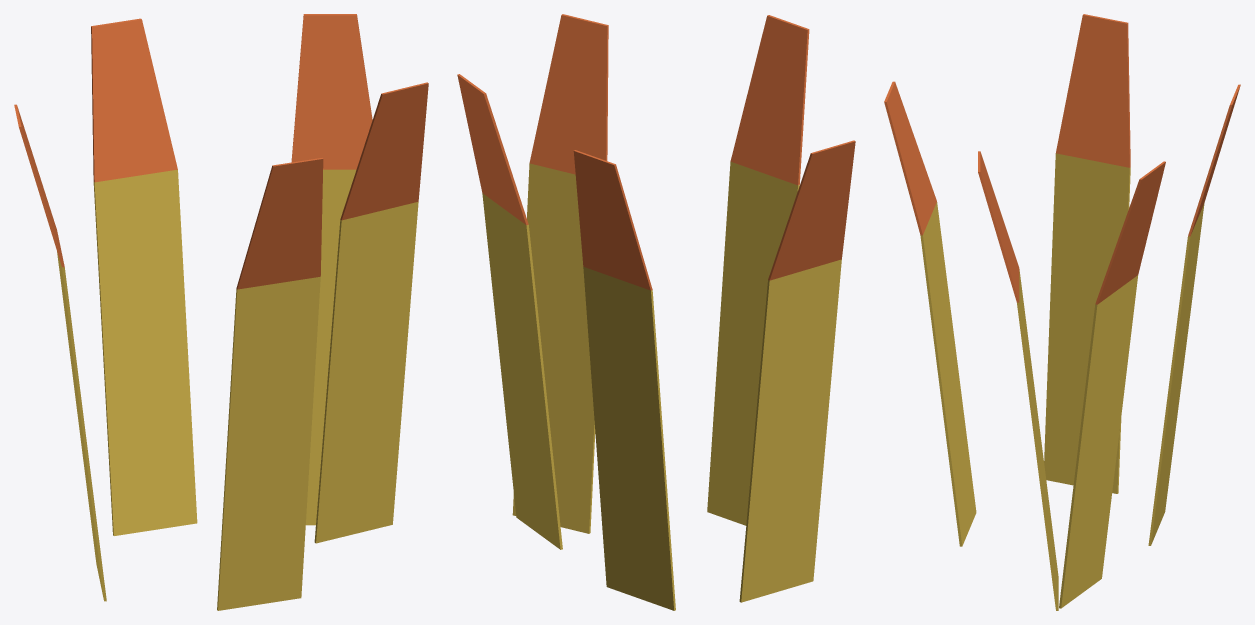
The model's file is Grass.fbx.
3 views of the same model, side by side, from view 1: azimuth 30°, elevation 25°; view 2: azimuth 150°, elevation 25°; view 3: azimuth 270°, elevation 25° (orthographic). The views are drawn at different scales.
Parts seen in each view (by area): view 1: GrassPlant.001, GrassPlant, GrassPlant.004, GrassPlant.002, GrassPlant.003; view 2: GrassPlant.003, GrassPlant.001, GrassPlant.004, GrassPlant, GrassPlant.002; view 3: GrassPlant.003, GrassPlant.002, GrassPlant, GrassPlant.001, GrassPlant.004.
Boxes of the visible parts, box(x1,y1,x2,y2) form: GrassPlant.001: box(91, 18, 197, 535); GrassPlant: box(217, 158, 323, 610); GrassPlant.004: box(314, 82, 428, 543); GrassPlant.002: box(291, 14, 372, 525); GrassPlant.003: box(14, 104, 106, 601); GrassPlant.003: box(739, 140, 855, 602); GrassPlant.001: box(573, 150, 675, 610); GrassPlant.004: box(512, 14, 608, 533); GrassPlant: box(707, 15, 809, 525); GrassPlant.002: box(457, 74, 562, 549); GrassPlant.003: box(1044, 14, 1130, 493); GrassPlant.002: box(1059, 161, 1165, 608); GrassPlant: box(884, 81, 976, 546); GrassPlant.001: box(1148, 84, 1240, 545); GrassPlant.004: box(978, 151, 1058, 610).
Size of the model in its own units: 154 by 189 by 140.
